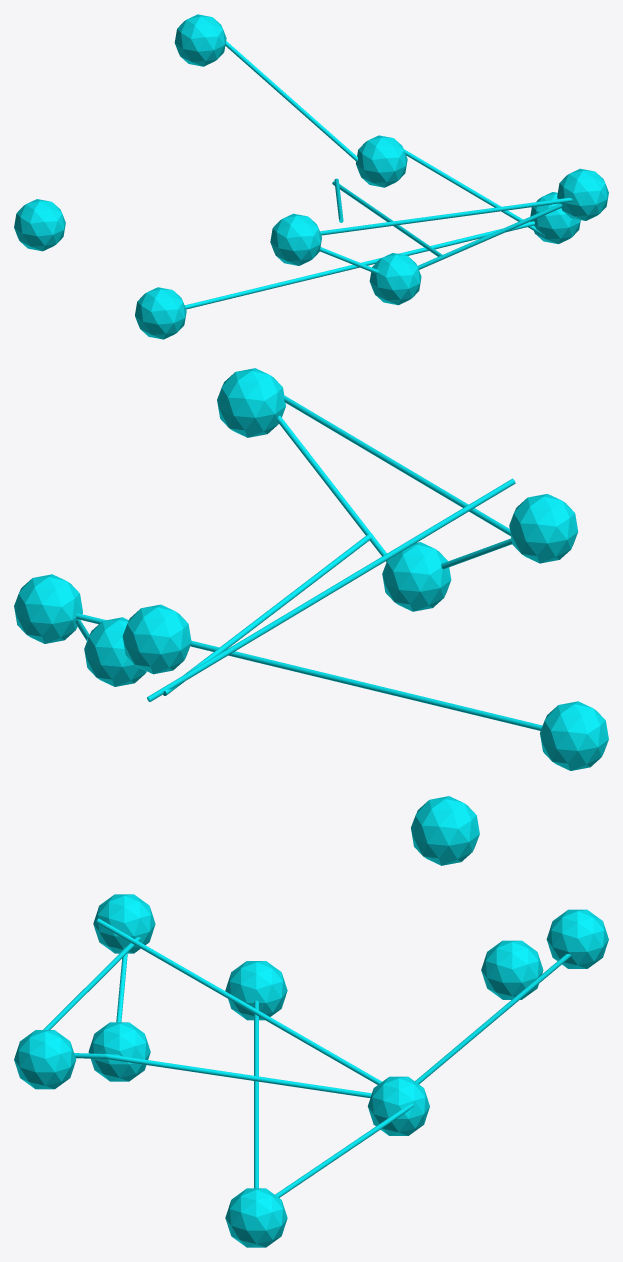
File: graphify.glb
3 renders of one model, top to bottom at view 1: azimuth 30°, elevation 25°; view 2: azimuth 150°, elevation 25°; view 3: azimuth 270°, elevation 25°, orthographic. The views are drawn at different scales.
Visible parts, largest first — view 1: node_2, node_4, node_3, node_5, node_1, node_6, node_7, conn_0_4, node_0, conn_5_7, conn_1_2, conn_6_7 (+2 smaller); view 2: node_3, node_2, node_4, node_5, node_7, node_0, node_6, conn_1_5, node_1, conn_0_4, conn_5_7, conn_1_6 (+1 smaller); view 3: node_0, node_7, node_2, node_3, node_1, node_6, node_4, node_5, conn_1_5, conn_1_6, conn_1_2, conn_0_1 (+2 smaller).
Part boxes in pixels (bbox=[...]): node_2: bbox=[174, 14, 226, 66]; node_4: bbox=[135, 287, 186, 339]; node_3: bbox=[14, 199, 65, 251]; node_5: bbox=[270, 213, 321, 265]; node_1: bbox=[356, 135, 407, 187]; node_6: bbox=[369, 253, 421, 305]; node_7: bbox=[557, 168, 608, 220]; conn_0_4: bbox=[184, 221, 534, 309]; node_0: bbox=[530, 192, 580, 244]; conn_5_7: bbox=[320, 197, 572, 235]; conn_1_2: bbox=[225, 41, 357, 161]; conn_6_7: bbox=[417, 203, 562, 269]; node_3: bbox=[411, 796, 479, 865]; node_2: bbox=[122, 604, 191, 674]; node_4: bbox=[540, 701, 608, 770]; node_5: bbox=[509, 494, 578, 563]; node_7: bbox=[217, 368, 285, 437]; node_0: bbox=[14, 574, 82, 643]; node_6: bbox=[382, 542, 451, 611]; conn_1_5: bbox=[147, 478, 515, 701]; node_1: bbox=[84, 617, 146, 686]; conn_0_4: bbox=[76, 613, 542, 730]; conn_5_7: bbox=[284, 395, 510, 536]; conn_1_6: bbox=[163, 533, 373, 695]; node_0: bbox=[225, 1188, 287, 1247]; node_7: bbox=[14, 1030, 76, 1089]; node_2: bbox=[546, 909, 608, 968]; node_3: bbox=[481, 940, 543, 999]; node_1: bbox=[367, 1076, 429, 1135]; node_6: bbox=[88, 1022, 150, 1081]; node_4: bbox=[225, 961, 287, 1020]; node_5: bbox=[93, 894, 155, 953]; conn_1_5: bbox=[96, 918, 381, 1084]; conn_1_6: bbox=[105, 1053, 371, 1097]; conn_1_2: bbox=[415, 954, 571, 1084]; conn_0_1: bbox=[275, 1104, 413, 1197].
Bounding box in the file's own units: 0.2352 × 0.0892 × 0.229.
